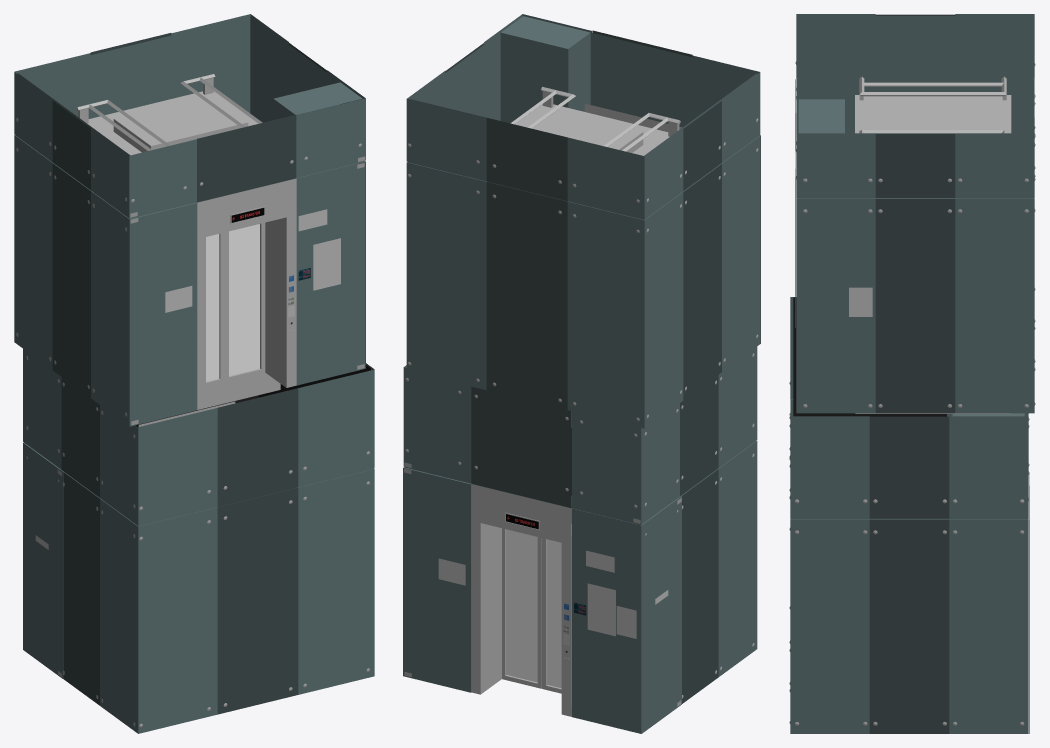
Rendered from mx10j_lift_wo_panel_component.fbx.
The picture shows the model from 3 angles, left to right: view 1: azimuth 30°, elevation 25°; view 2: azimuth 150°, elevation 25°; view 3: azimuth 270°, elevation 25°; orthographic projection. The views are drawn at different scales.
Parts seen in each view (by area): view 1: MX10J_exterior_bottom_polySurface2, MX10J_exterior_bottom_01_geo, MX10J_lift_exterior_box_geo, MX10J_exterior_bottom_polySurface1, polySurface2, MX10J_exterior_01_geo, MX10J_exterior_02_geo, MX10J_circuit_door_geo, MX10J_exterior_18_geo, MX10J_exterior_bottom_circuit_door_geo, MX10J_exterior_bottom_exterior_20_geo, MX10J_exterior_08_geo (+14 smaller); view 2: polySurface2, MX10J_lift_exterior_box_geo, MX10J_exterior_bottom_01_geo, polySurface1, MX10J_exterior_01_geo, MX10J_exterior_bottom_02_geo, polySurface23066, MX10J_exterior_bottom_exterior_20_geo, MX10J_exterior_bottom_exterior_18_geo, MX10J_exterior_bottom_circuit_door_geo, MX10J_exterior_bottom_polySurface2, MX10J_exterior_08_geo (+14 smaller); view 3: MX10J_exterior_bottom_polySurface2, polySurface2, MX10J_lift_exterior_box_geo, MX10J_exterior_bottom_08_geo, MX10J_exterior_08_geo, MX10J_exterior_bottom_01_geo, MX10J_exterior_01_geo, MX10J_exterior_bottom_10_geo, MX10J_lift_box02_geo, MX10J_exterior_10_geo, MX10J_interior_bottom_dark_geo, MX10J_poster_01_geo.
Part boxes in pixels (box(x1,y1,x2,y2)): MX10J_exterior_bottom_polySurface2: box(100, 469, 374, 733); MX10J_exterior_bottom_01_geo: box(23, 349, 374, 526); MX10J_lift_exterior_box_geo: box(18, 16, 362, 155); MX10J_exterior_bottom_polySurface1: box(217, 488, 298, 714); polySurface2: box(14, 135, 365, 425); MX10J_exterior_01_geo: box(14, 14, 365, 219); MX10J_exterior_02_geo: box(129, 203, 197, 426); MX10J_circuit_door_geo: box(296, 161, 365, 385); MX10J_exterior_18_geo: box(197, 178, 296, 409); MX10J_exterior_bottom_circuit_door_geo: box(23, 442, 63, 678); MX10J_exterior_bottom_exterior_20_geo: box(217, 388, 298, 507); MX10J_exterior_08_geo: box(52, 163, 90, 397); polySurface2: box(406, 136, 760, 428); MX10J_lift_exterior_box_geo: box(410, 16, 756, 156); MX10J_exterior_bottom_01_geo: box(403, 346, 757, 525); polySurface1: box(486, 182, 567, 409); MX10J_exterior_01_geo: box(406, 14, 760, 220); MX10J_exterior_bottom_02_geo: box(403, 467, 471, 692); polySurface23066: box(572, 497, 679, 733); MX10J_exterior_bottom_exterior_20_geo: box(471, 386, 571, 508); MX10J_exterior_bottom_exterior_18_geo: box(471, 484, 571, 706); MX10J_exterior_bottom_circuit_door_geo: box(641, 496, 681, 733); MX10J_exterior_bottom_polySurface2: box(571, 441, 757, 716); MX10J_exterior_08_geo: box(683, 164, 721, 399); MX10J_exterior_bottom_polySurface2: box(790, 400, 1028, 733); polySurface2: box(797, 80, 1034, 413); MX10J_lift_exterior_box_geo: box(798, 16, 1031, 133); MX10J_exterior_bottom_08_geo: box(869, 519, 949, 733); MX10J_exterior_08_geo: box(875, 199, 955, 413); MX10J_exterior_bottom_01_geo: box(790, 297, 1028, 519); MX10J_exterior_01_geo: box(796, 14, 1034, 198); MX10J_exterior_bottom_10_geo: box(869, 416, 949, 518); MX10J_lift_box02_geo: box(855, 76, 1011, 133); MX10J_exterior_10_geo: box(875, 14, 955, 197); MX10J_interior_bottom_dark_geo: box(793, 297, 946, 416); MX10J_poster_01_geo: box(849, 287, 872, 316).
Bounding box in the file's own units: 302 × 683 × 255.
